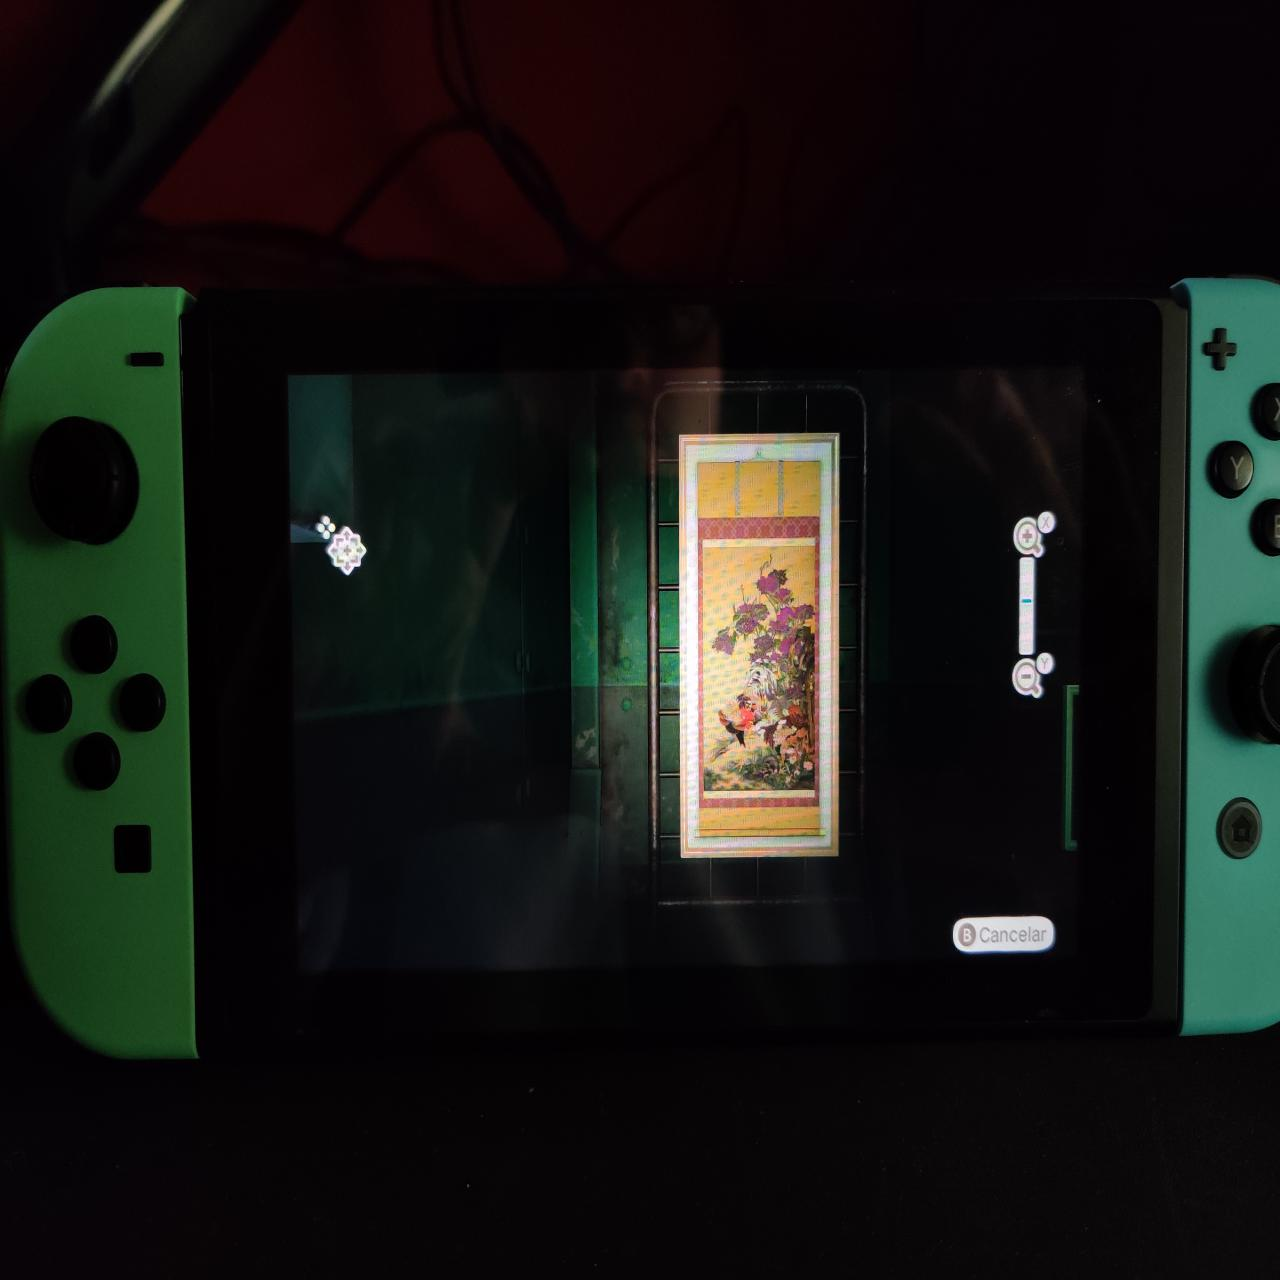AjisaisoukeizuFake: (704, 542, 816, 799)
